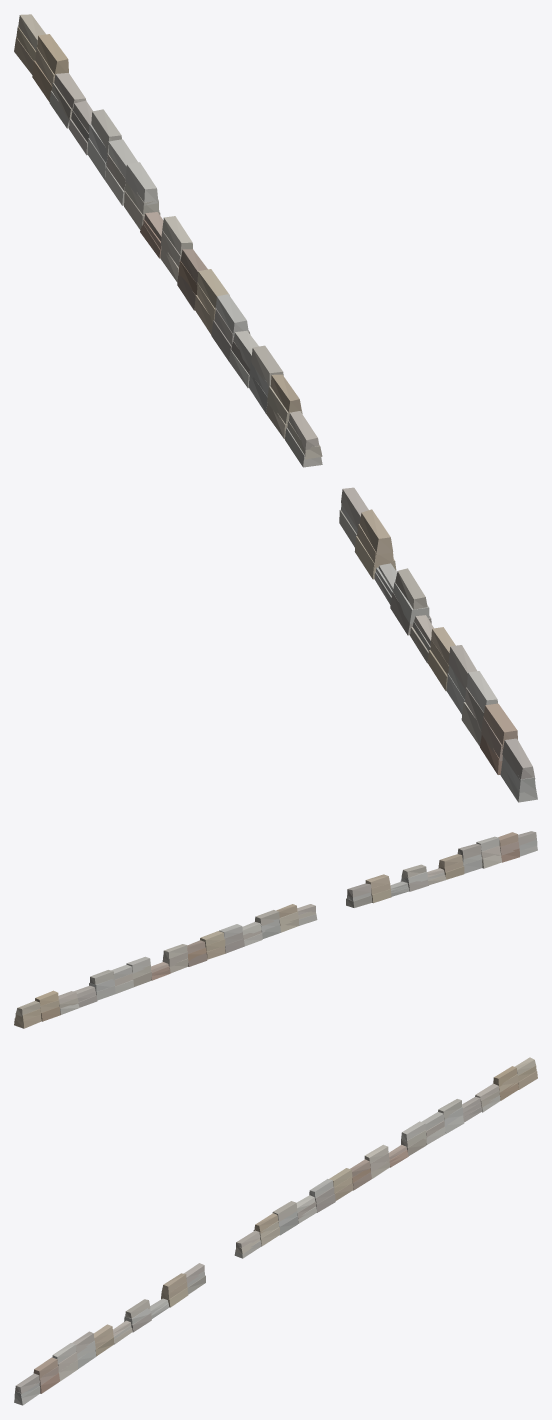
Rendered from farm_-41_-38_mid.glb.
3 views of the same model, one above another, from view 1: azimuth 30°, elevation 25°; view 2: azimuth 150°, elevation 25°; view 3: azimuth 330°, elevation 25° (orthographic). The views are drawn at different scales.
Visible parts, largest first — view 1: geometry_0; view 2: geometry_0; view 3: geometry_0.
Part boxes in pixels (x1,y1,x2,y2): geometry_0: (14,14,537,802); geometry_0: (14,831,537,1028); geometry_0: (14,1057,537,1405).
Bounding box in the file's own units: 8.82 × 5.76 × 43.2.
